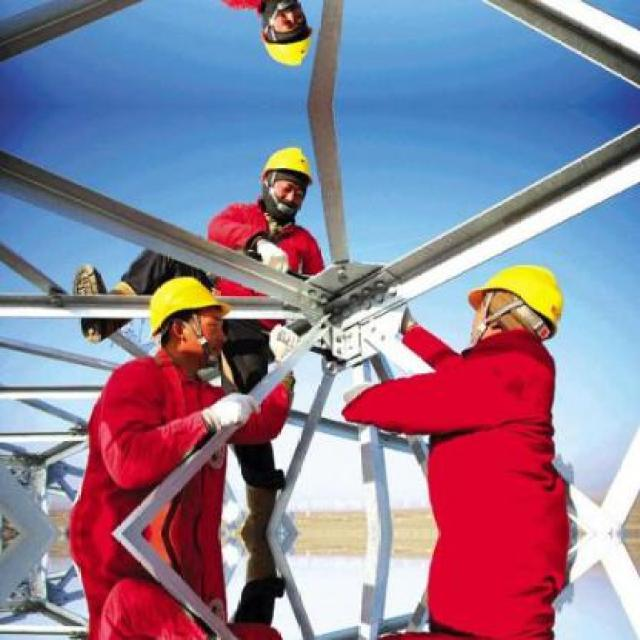helmet: (458, 257, 570, 352), (139, 268, 233, 362), (256, 136, 316, 220), (255, 0, 317, 77)
